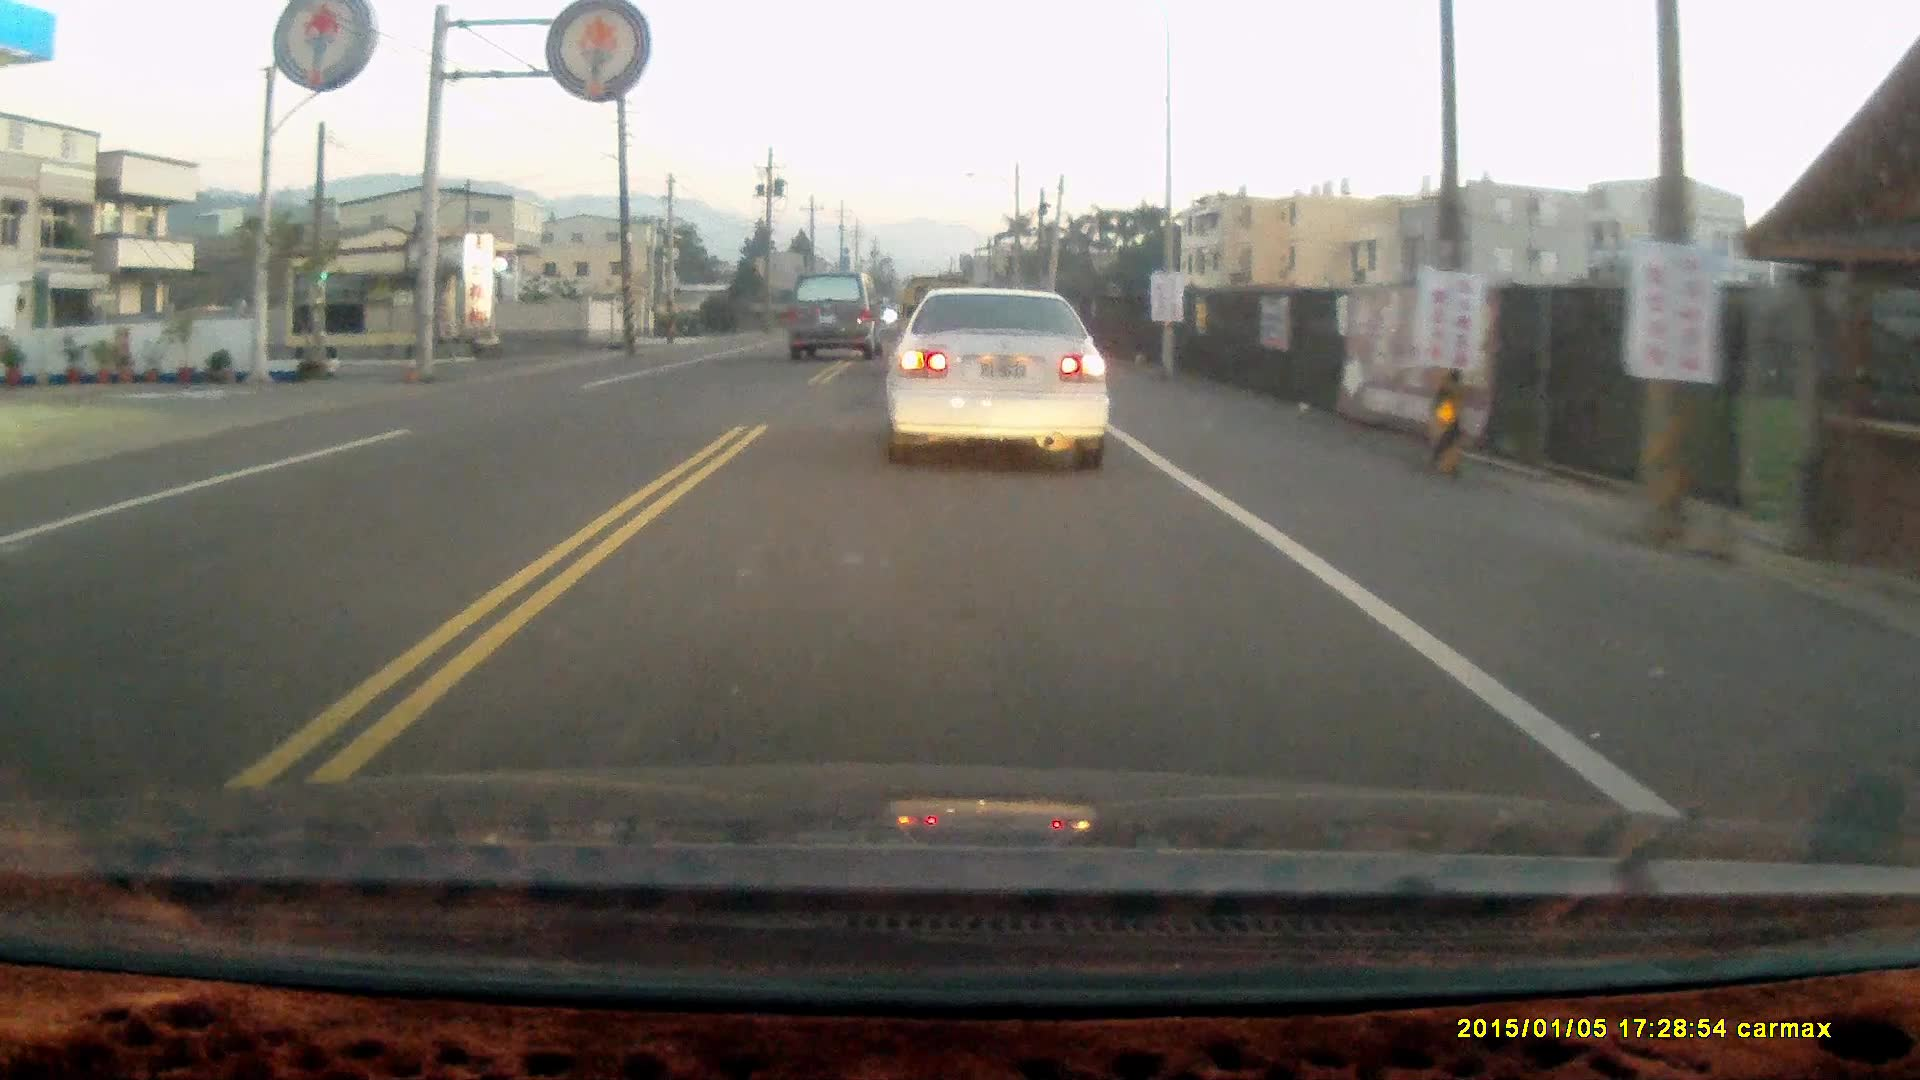vehicle: (880, 287, 1118, 477), (779, 272, 887, 368)
